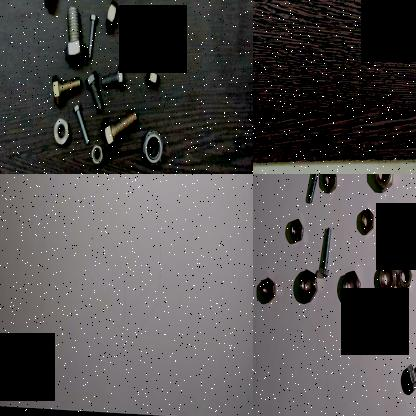Bolts: (57, 6, 86, 69), (101, 110, 140, 152), (48, 73, 82, 107), (72, 103, 92, 148), (319, 225, 333, 281), (303, 174, 325, 208), (102, 62, 125, 92), (86, 12, 98, 60), (405, 352, 416, 393)
NUTS: (128, 15, 154, 52), (141, 129, 164, 169), (376, 260, 400, 298), (298, 266, 318, 307), (342, 268, 362, 305), (102, 0, 120, 37), (51, 117, 71, 146), (398, 262, 414, 294), (368, 314, 384, 342), (372, 174, 396, 192), (362, 206, 376, 233), (262, 276, 276, 302), (144, 70, 161, 90), (90, 144, 104, 168), (404, 214, 416, 242), (323, 174, 338, 196), (290, 219, 304, 242), (43, 0, 57, 12)
